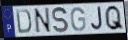D: (15, 9, 33, 35)
G: (70, 7, 87, 33)
J: (90, 6, 104, 32)
N: (33, 7, 53, 35)
Q: (104, 5, 125, 32)
S: (51, 6, 70, 34)
